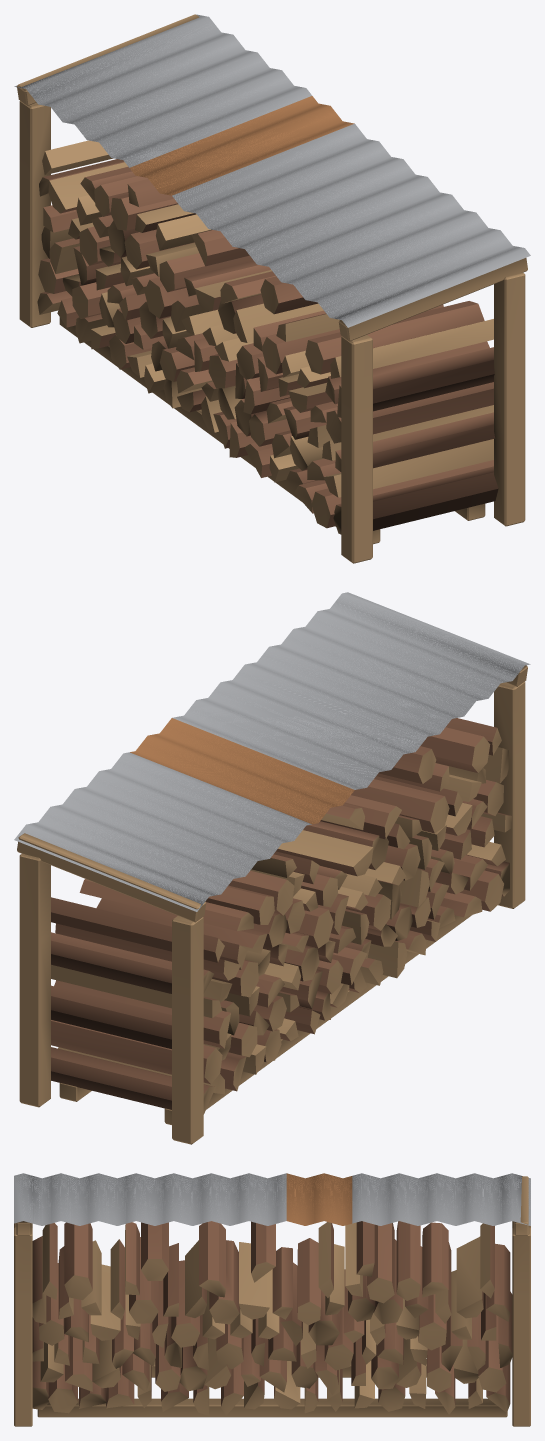
File: woodpile_s.glb
The picture shows the model from 3 angles, top to bottom: view 1: azimuth 30°, elevation 25°; view 2: azimuth 150°, elevation 25°; view 3: azimuth 270°, elevation 25°; orthographic projection. The views are drawn at different scales.
Parts seen in each view (by area): view 1: PART; view 2: PART; view 3: PART.
Part boxes in pixels (box(x1,y1,x2,y2)): PART: box(14, 14, 530, 563); PART: box(14, 592, 530, 1144); PART: box(14, 1173, 530, 1426).
Bounding box in the file's own units: 0.696 × 0.977 × 2.2.
